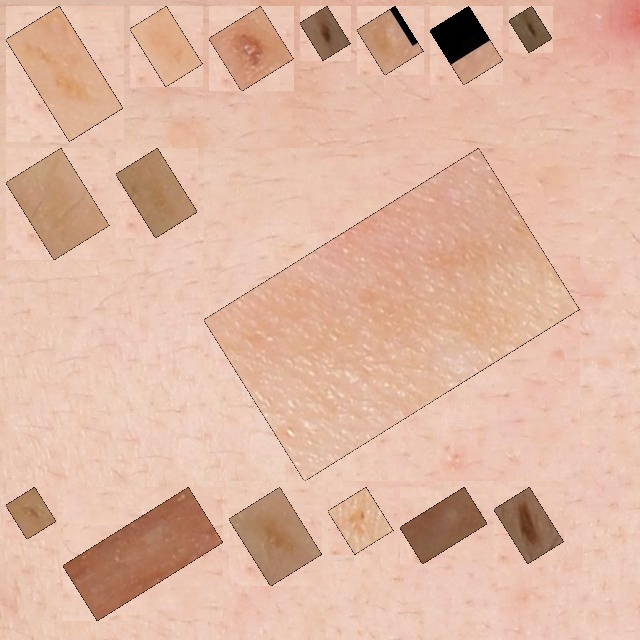hypertrophic_scar: (74, 498, 212, 610), (411, 498, 476, 553)
melasma: (215, 159, 568, 470), (17, 17, 112, 130), (17, 159, 98, 249), (240, 498, 311, 575), (127, 159, 186, 227), (441, 17, 492, 74), (141, 17, 191, 75), (368, 17, 412, 64), (339, 498, 382, 543), (17, 498, 45, 528)
nevus: (220, 17, 283, 80), (505, 498, 553, 553), (311, 17, 339, 49), (520, 17, 541, 42)
